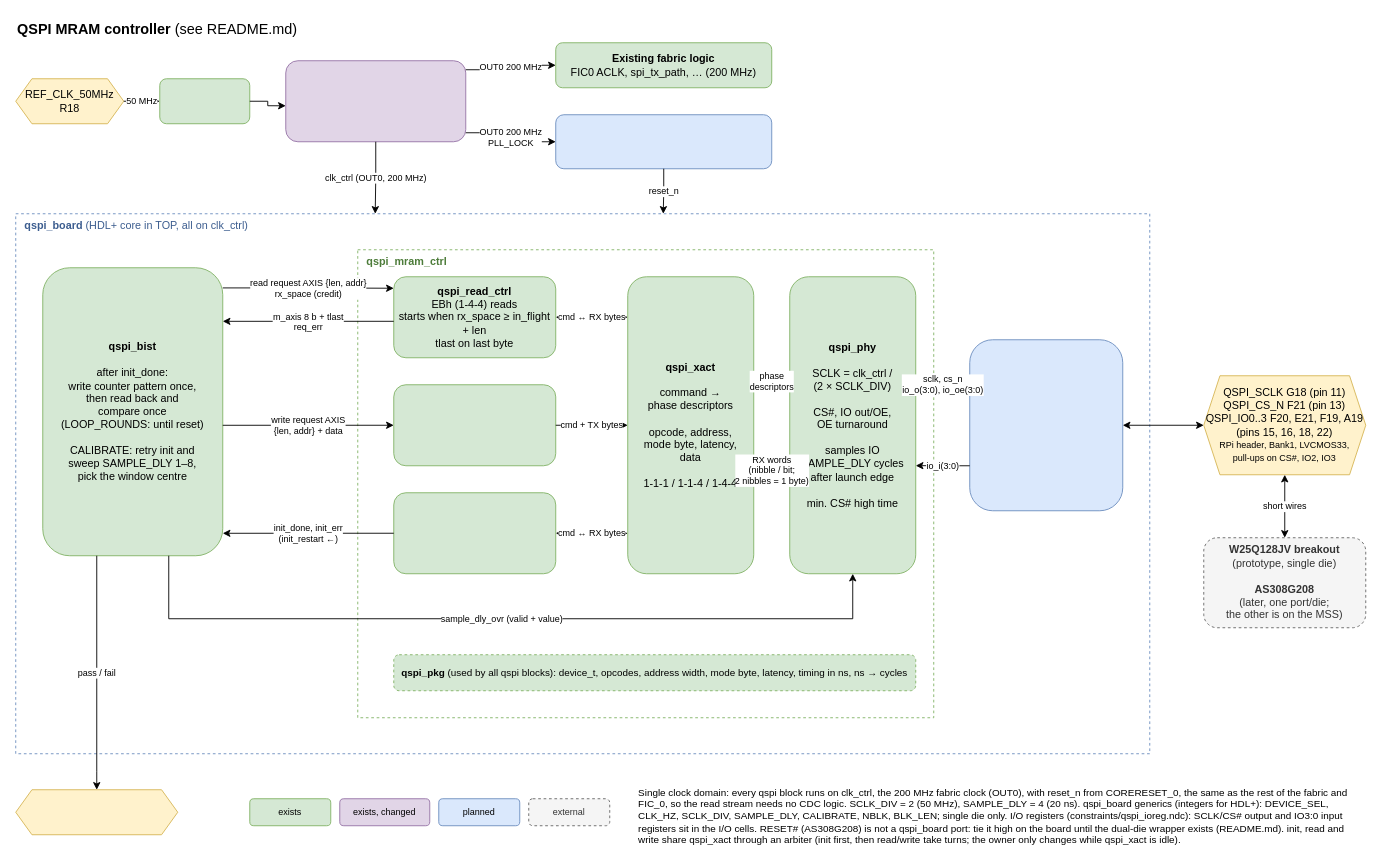
Image size: 1382x861. Some labels were removed from this diagram. The shapes that lost their labels are listed below. From the top down, each one's centre as x and y in pixels, then its label:
At point (204, 101): "CLKINT".
At point (375, 101): "PF_CCC_C0 OUT0 200 MHz (single fabric clock; OUT1 removed)".
At point (663, 141): "CORERESET_0 (CORERESET_PF) CLK = OUT0 = clk_ctrl shared with the fabric".
At point (474, 425): "qspi_write WREN + write per device (W25Q: erase, 256 B pages, BUSY polling)".
At point (1046, 425): "Tristate IO buffers inout io(3:0) one die: CS#, SCLK, IO3:0".
At point (474, 533): "qspi_init power-up wait, reset, JEDEC ID, configure, verify, init_done".
At point (96, 812): "LED5 (pass) AA18 LED6 (fail) V16".
